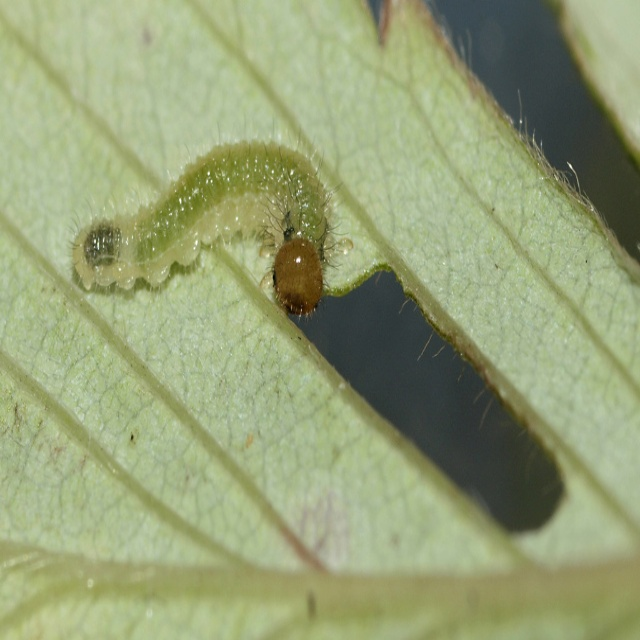Caterpillar: (62, 114, 351, 319)
